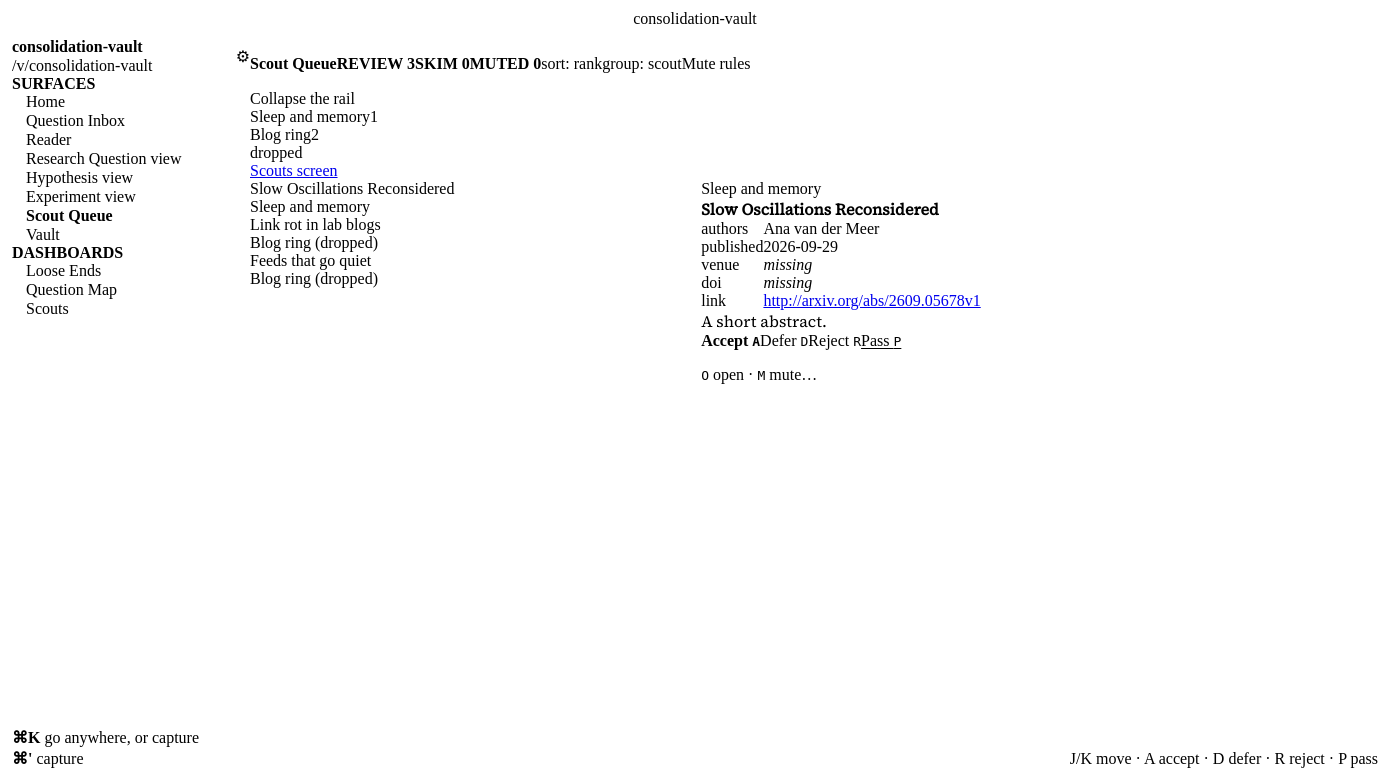
Test: the Scout Queue — a dropped Scout › keeps its stack under a tile of its own, marked dropped, for as long as anything waits under it
The image size is (1390, 768).
Expected: the text "dropped" is shown, [250, 144, 302, 162]
Click the button "Blog ring 2 dropped": {"x": 338, "y": 144} [250, 126, 426, 162]
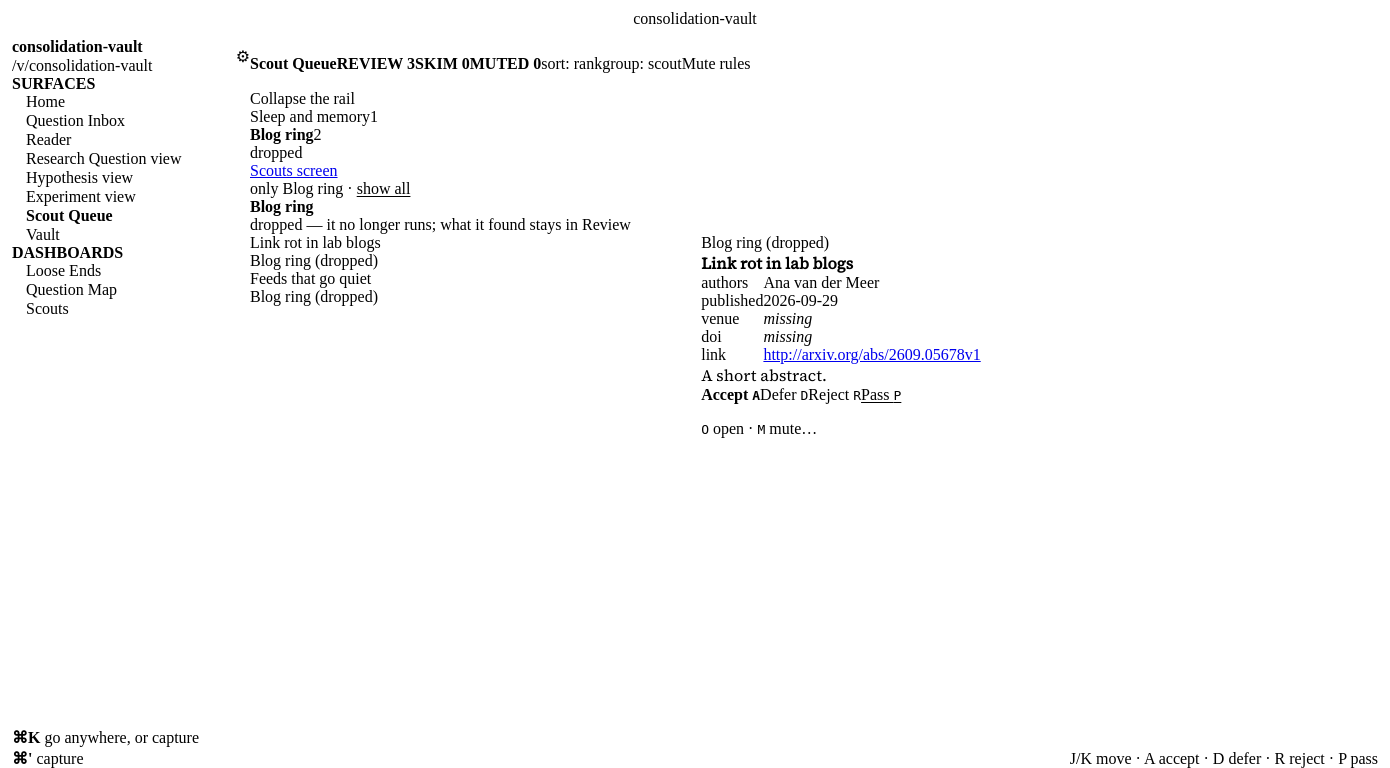
Result: the heading "Blog ring" is shown at [250, 198, 314, 215]
